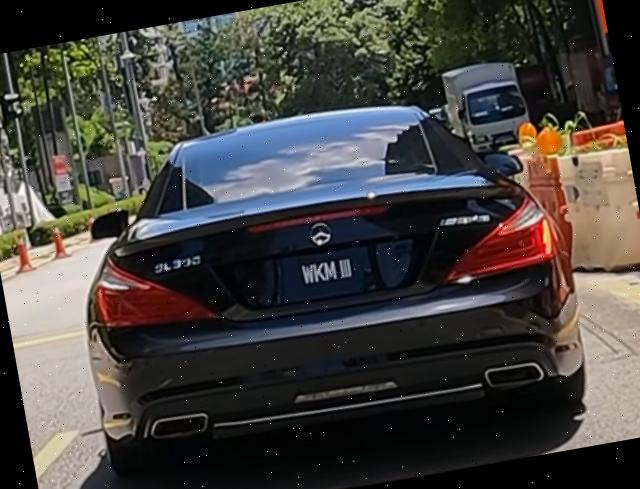License_Plate: (281, 245, 374, 302)
car: (52, 70, 603, 489)
